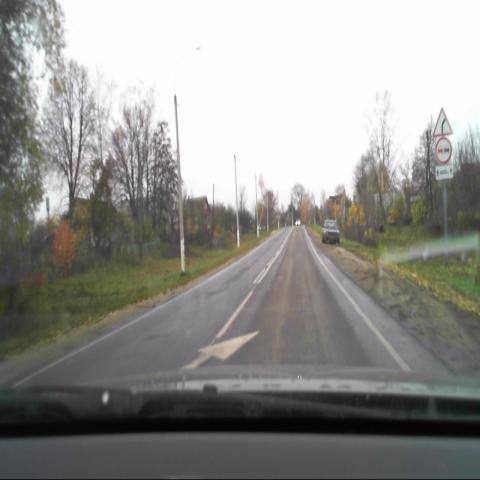1_11: (432, 107, 453, 136)
